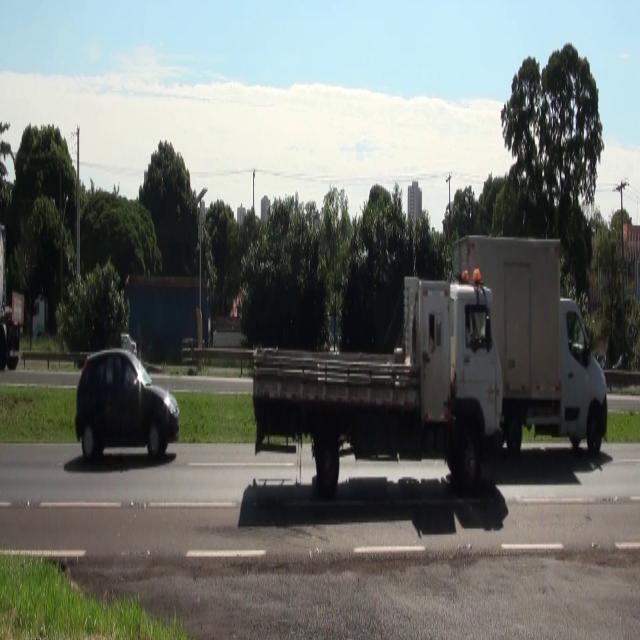-axle: (455, 425, 486, 498), (316, 429, 344, 498), (582, 399, 605, 462), (502, 416, 524, 467)
